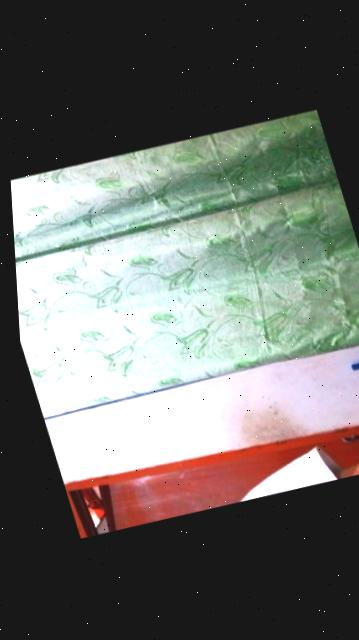pistol: (316, 230, 359, 411)
